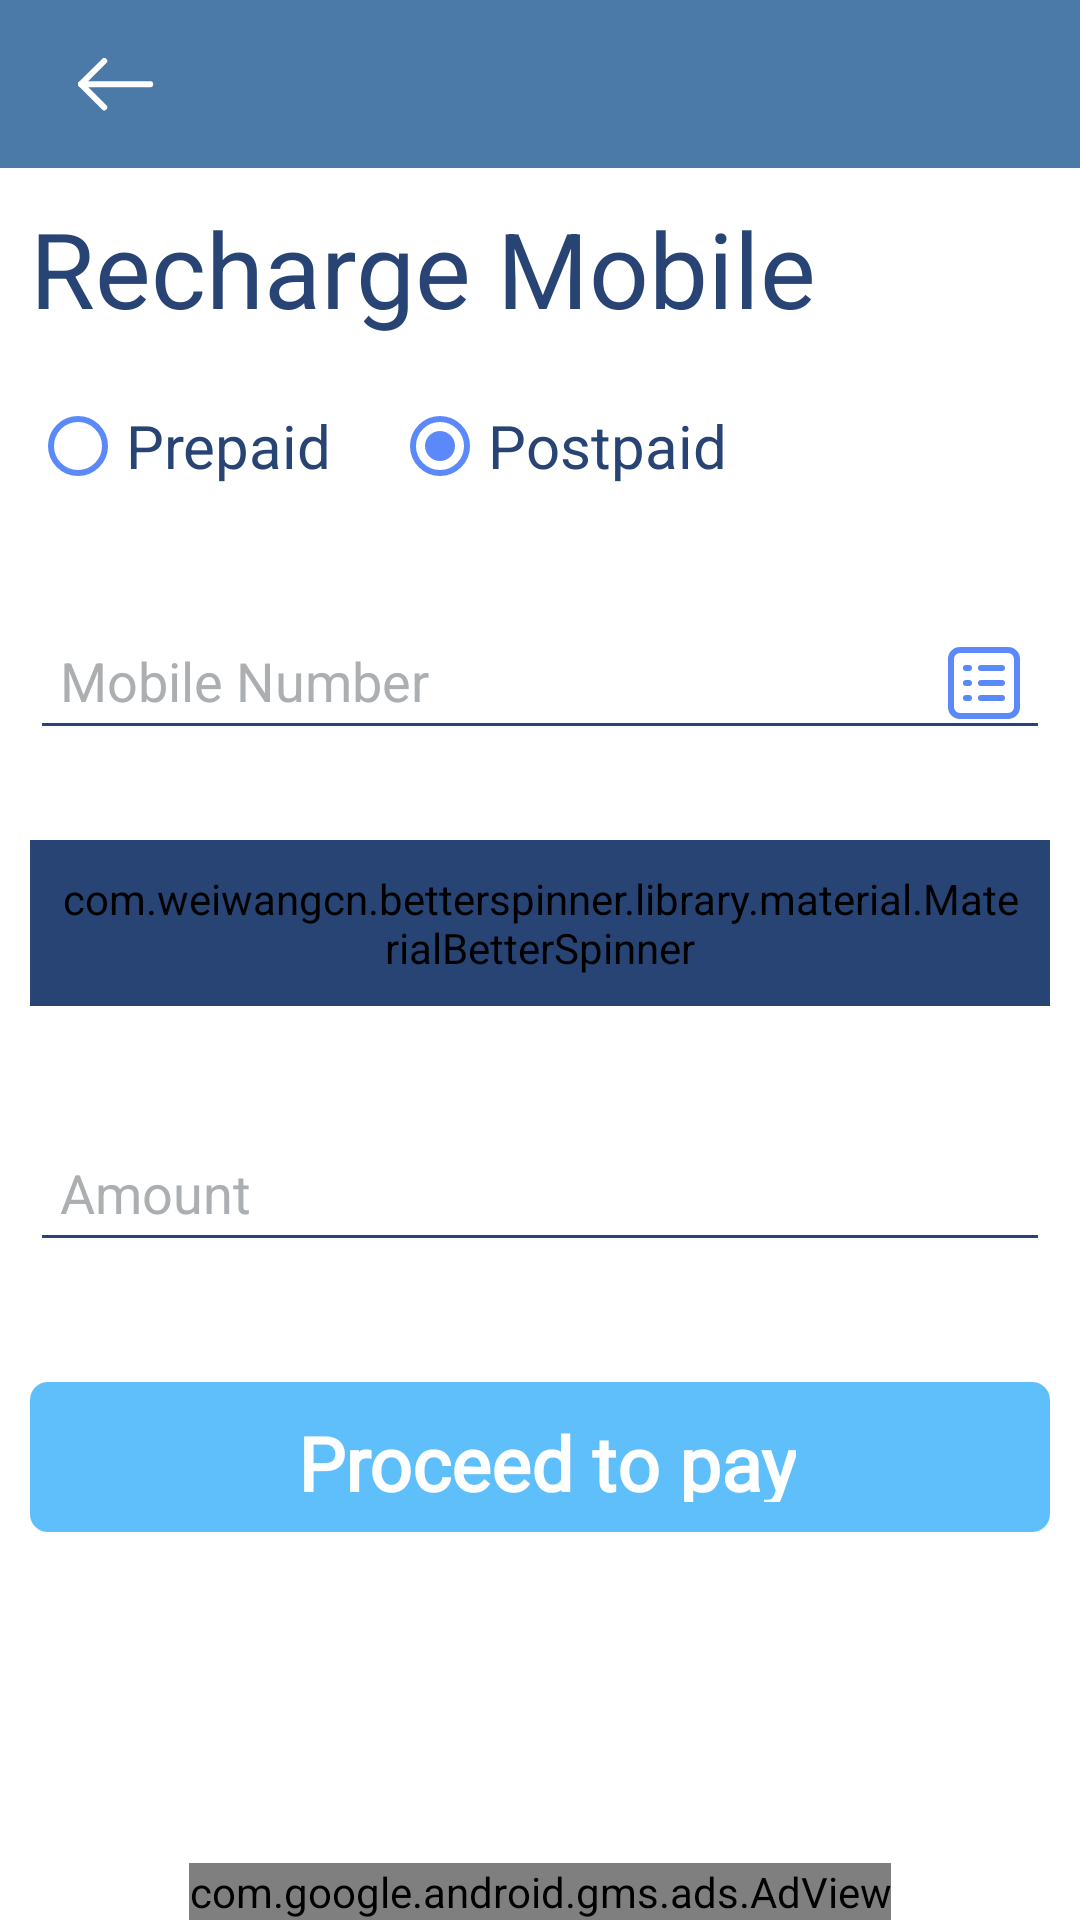

Screen size 1080w x 1920h. Icon name, then its box in pixels as (x1, y1, x2, y2):
back: (78, 58, 154, 111)
